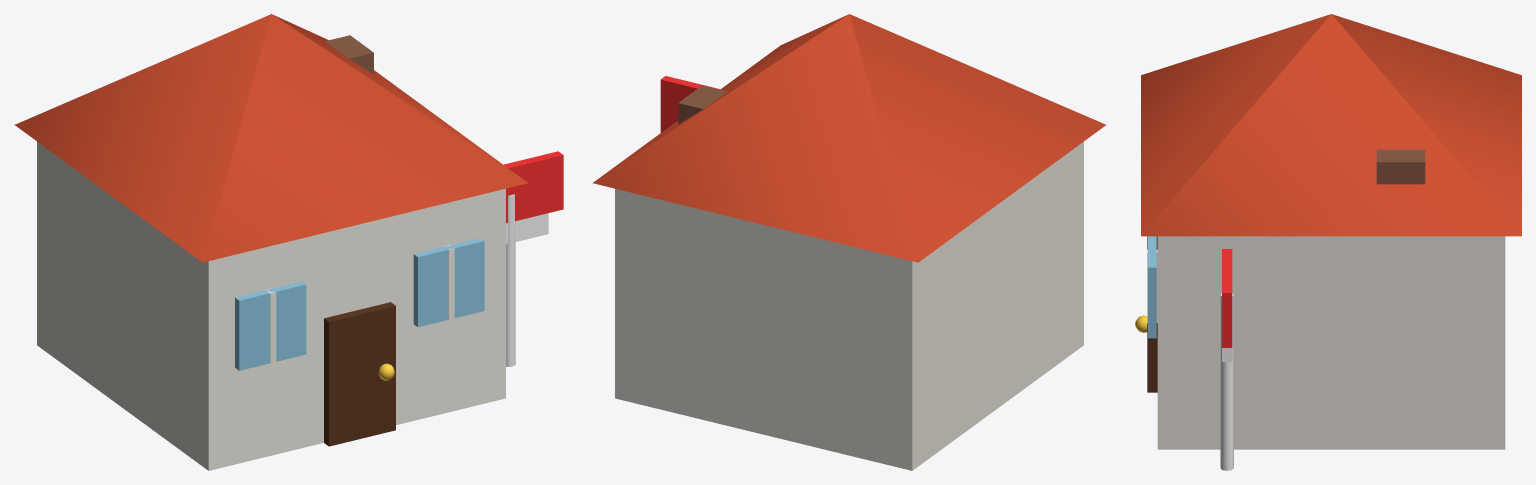
File: real_estate.glb
3 renders of one model, left to right at view 1: azimuth 30°, elevation 25°; view 2: azimuth 150°, elevation 25°; view 3: azimuth 270°, elevation 25°, orthographic.
Visible parts, largest first — view 1: real_estate; view 2: real_estate; view 3: real_estate.
Boxes of the visible parts, x1,y1,x2,y2 form: real_estate: (15, 14, 563, 470); real_estate: (593, 14, 1105, 470); real_estate: (1135, 14, 1521, 470).
Bounding box in the file's own units: 2.7 × 2.3 × 2.23.
